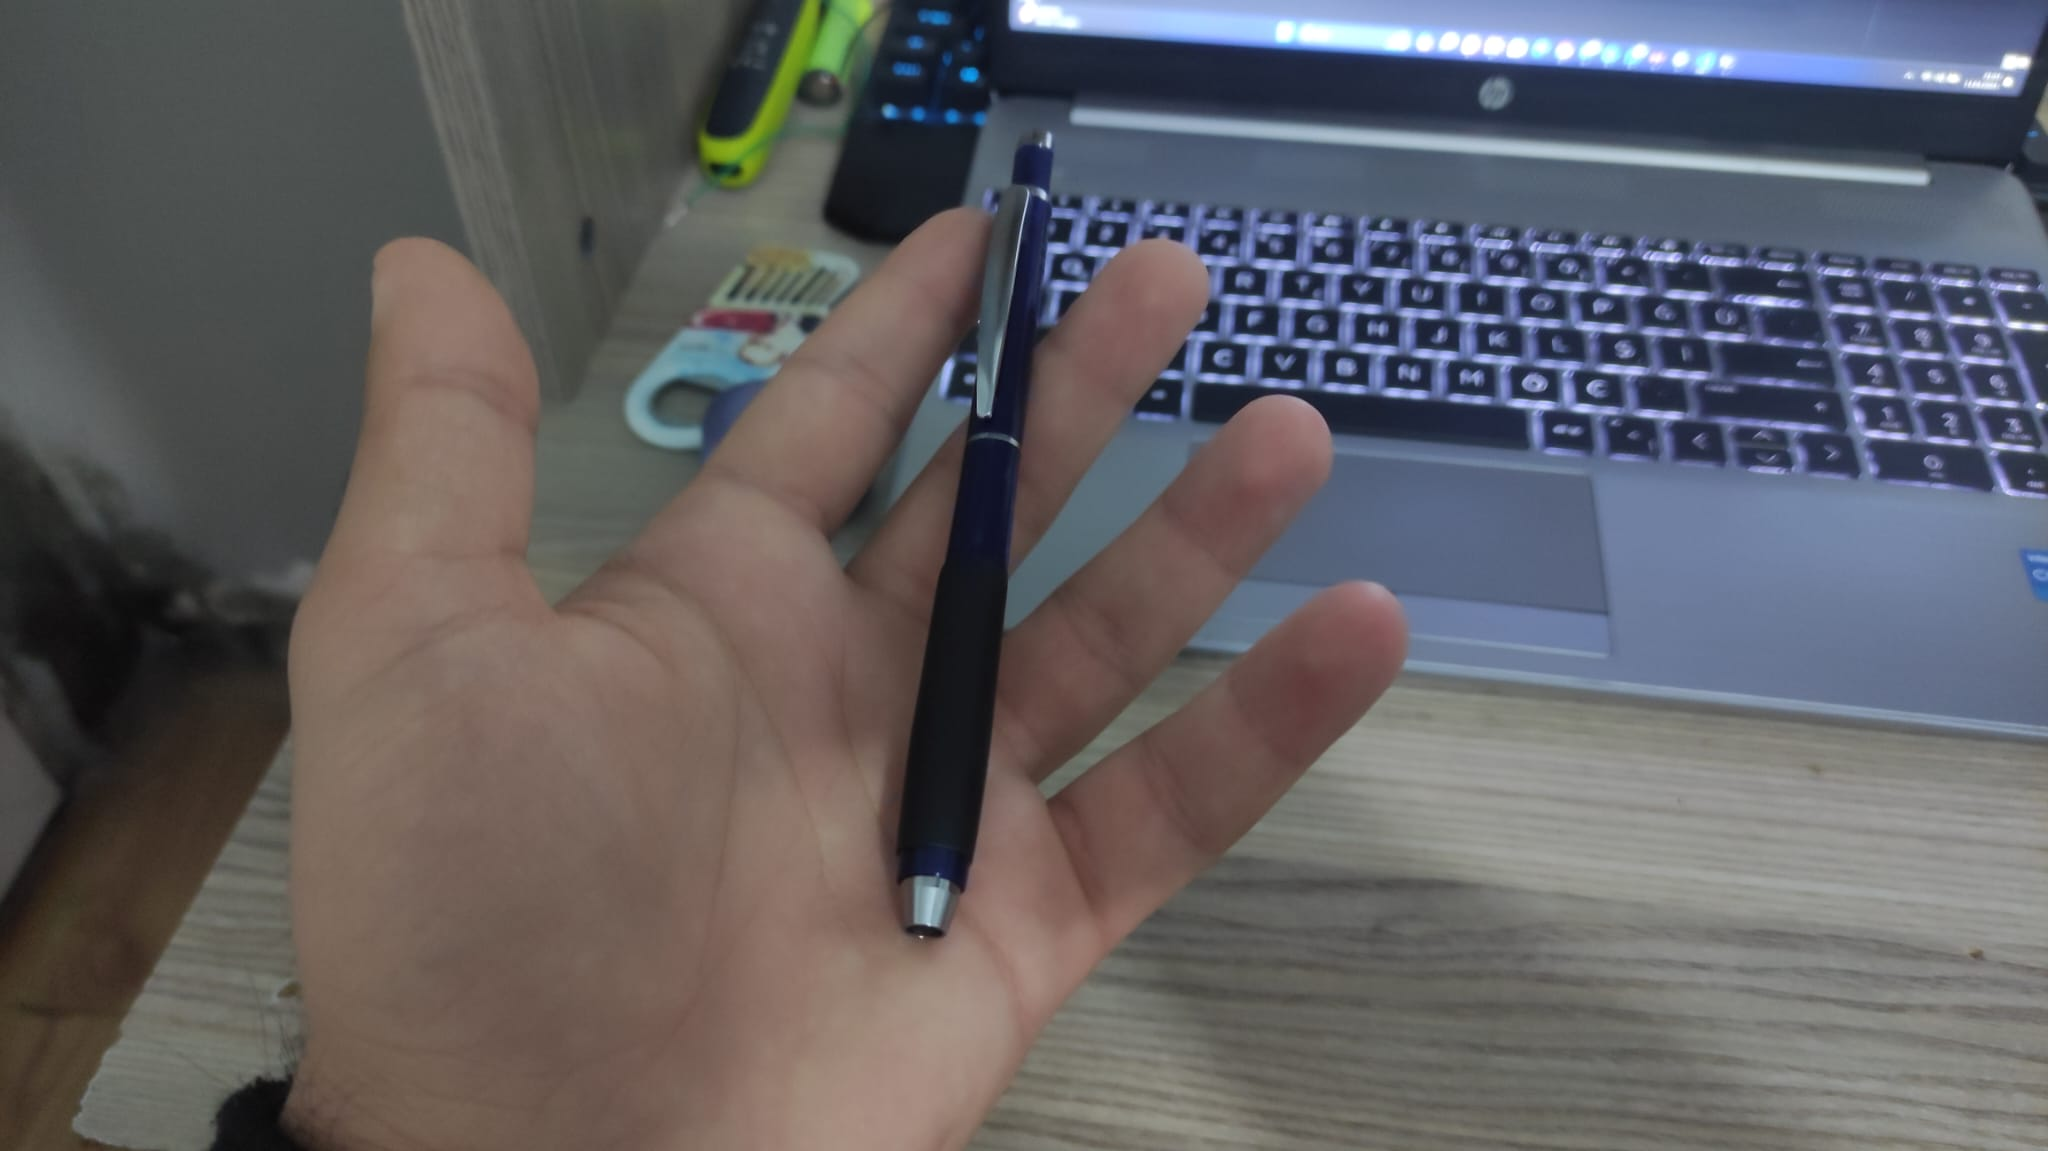kalem: (886, 125, 1056, 936)
